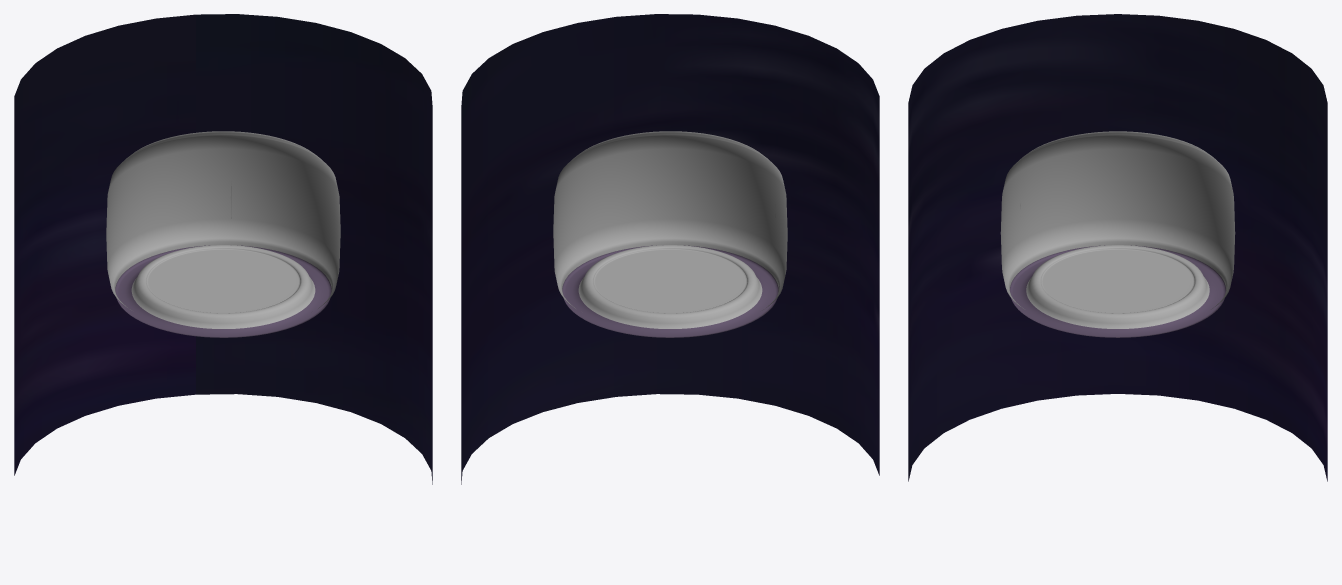
The picture shows the model from 3 angles, left to right: view 1: azimuth 30°, elevation 25°; view 2: azimuth 150°, elevation 25°; view 3: azimuth 270°, elevation 25°; orthographic projection.
Visible parts, largest first — view 1: Background, Dome; view 2: Background, Dome; view 3: Background, Dome.
Part boxes in pixels (<box>): Background: <box>14,14,432,484</box>; Dome: <box>106,131,340,337</box>; Background: <box>461,14,879,484</box>; Dome: <box>553,131,787,337</box>; Background: <box>908,14,1327,481</box>; Dome: <box>1000,131,1235,337</box>.
Size of the model in its own units: 10.87 by 10.87 by 10.87.
Materials: 5 (2 with a texture image).
